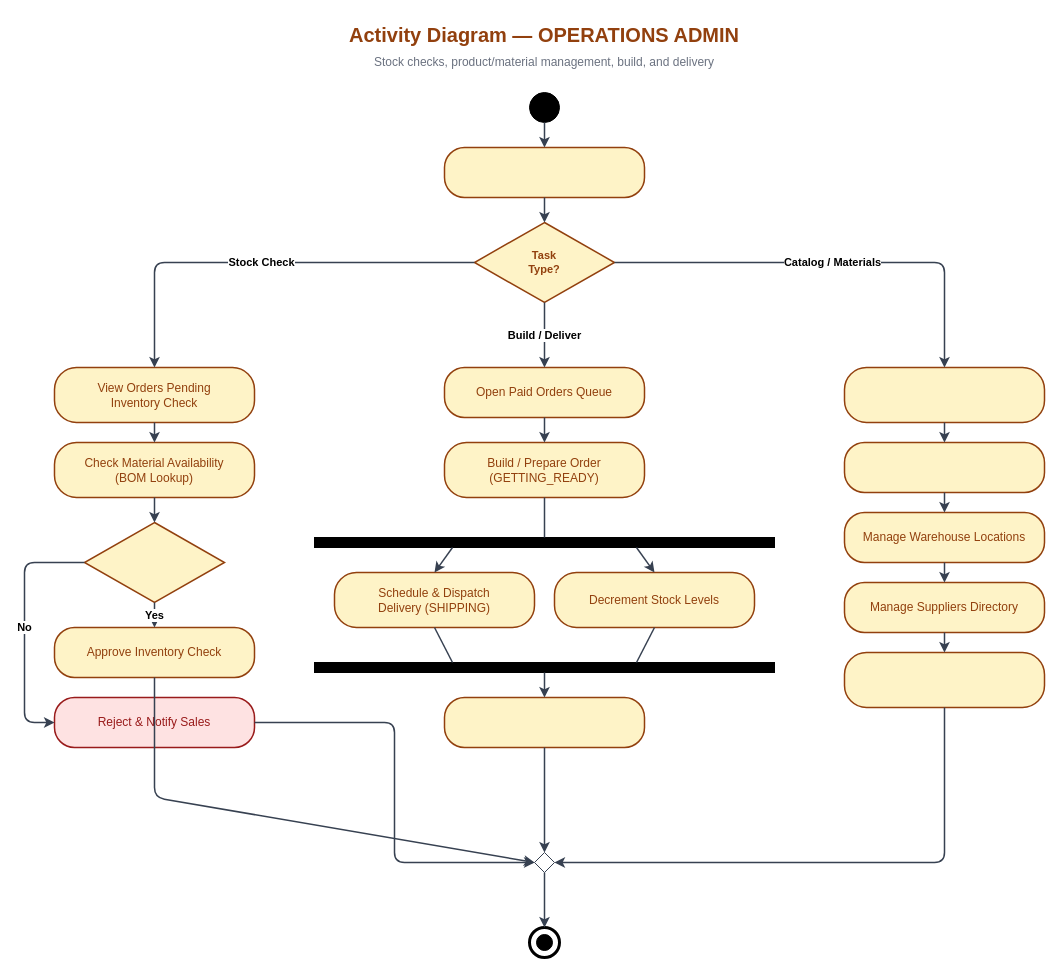
This 1063x976 diagram has some shape labels left out. The shapes that lost their labels are listed below. From the top down, each one's centre as x and y in pixels, then its label:
At [544,172]: "Log In to Admin Dashboard".
At [944,394]: "Manage Products (Create / Edit / Archive)".
At [944,467]: "Manage Raw Materials & BOM".
At [154,562]: "Materials Sufficient?".
At [944,679]: "Request Product Edit (Needs Executive Approval)".
At [544,722]: "Mark Order as Delivered".
